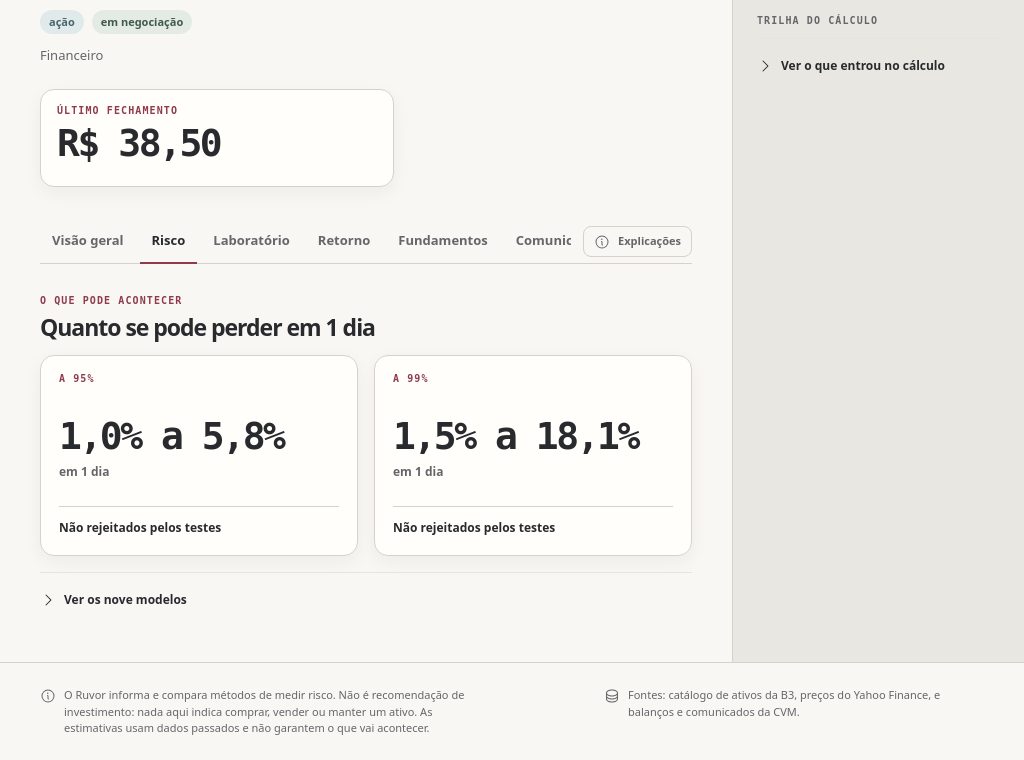
Scenario: V-07 — a perda em percentual simples, sempre com o horizonte › toda perda da seção vem com "em 1 dia": junto da faixa, ou no cabeçalho da coluna
(page scrolled)
Click the button "Ver os nove modelos": [113, 600] box [40,585,187,614]
(page scrolled)
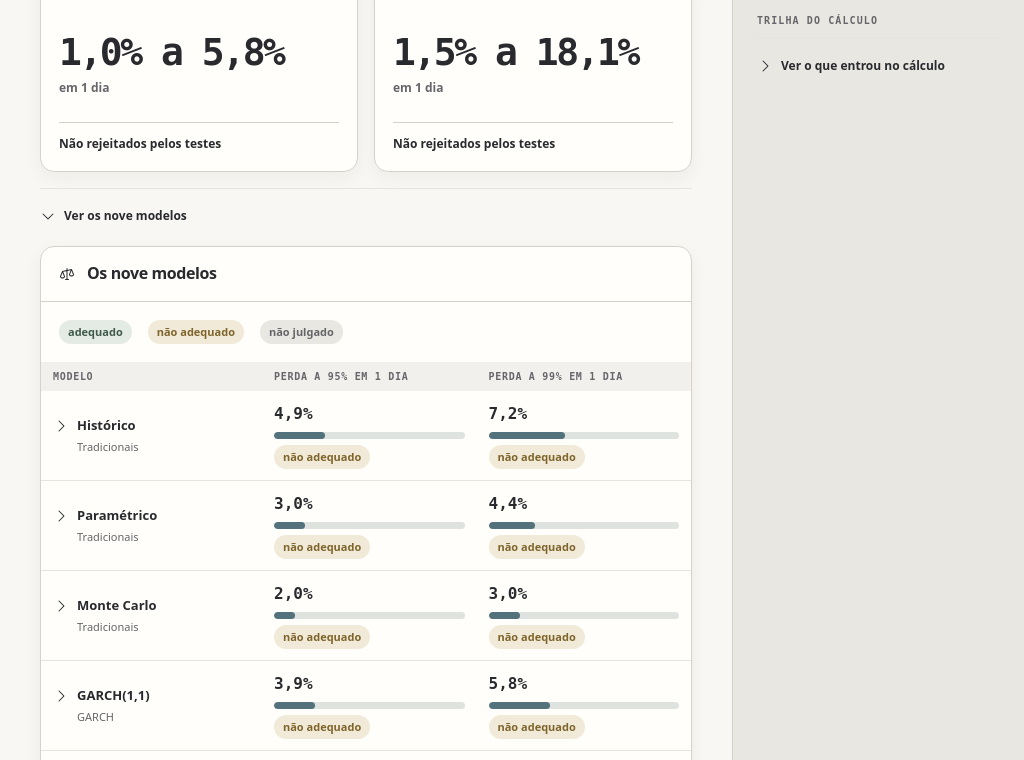
Result: the number of elements with class "ruvor-loss" is 18
Result: the column heading "Perda a 95% em 1 dia" is shown at [262,362,476,391]
Result: the column heading "Perda a 99% em 1 dia" is shown at [476,362,691,391]
